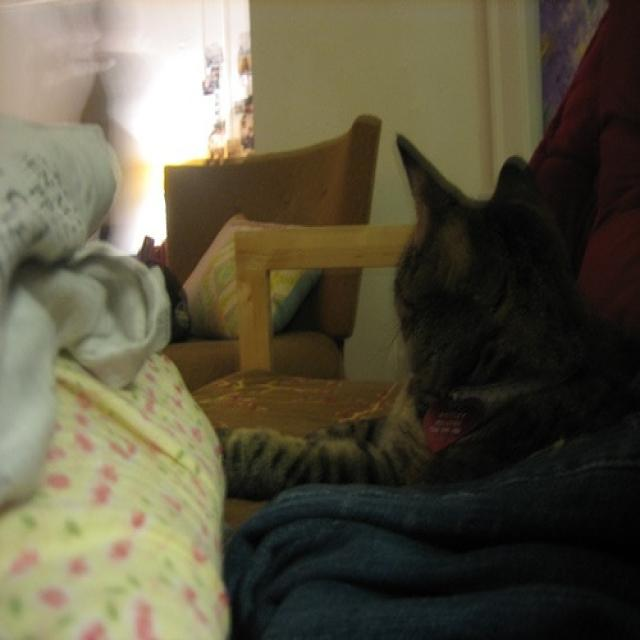cat: (207, 130, 639, 495)
chair: (182, 5, 638, 638), (162, 111, 382, 379)
